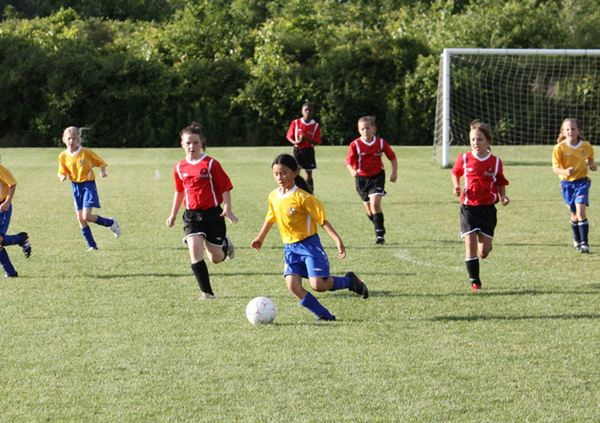football: (245, 296, 278, 325)
